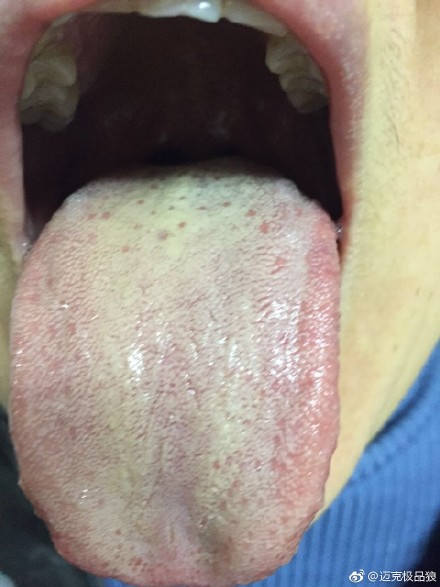hongdianshe: (244, 207, 258, 220), (176, 218, 188, 232), (220, 197, 232, 211)
huangtaishe: (11, 155, 342, 587)
